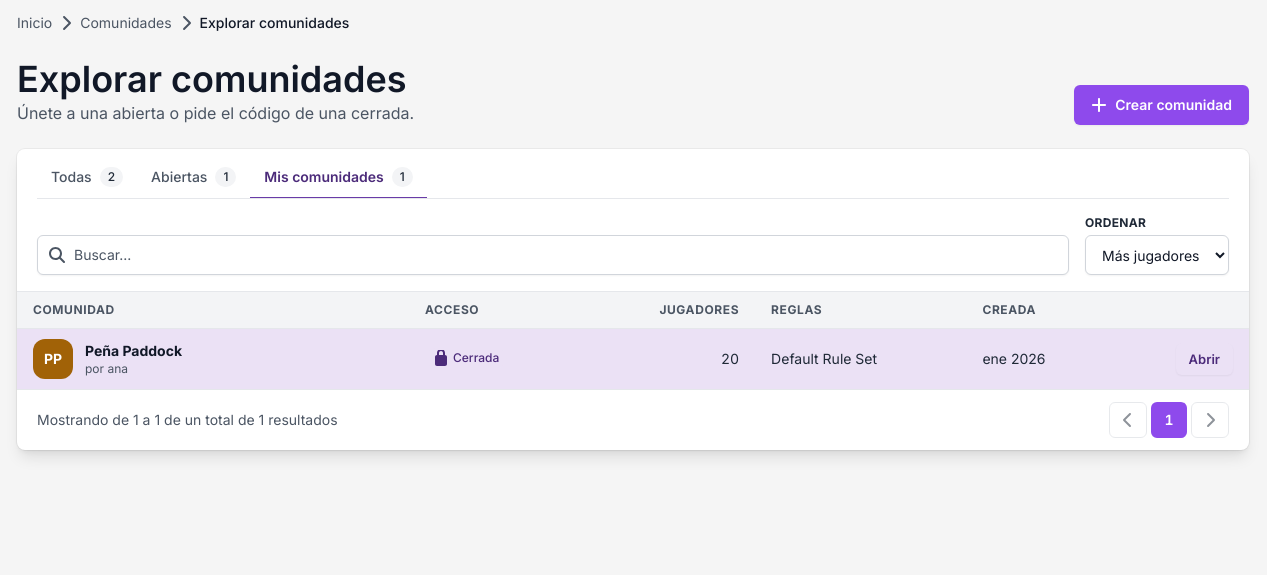
Scenario: Explorar comunidades › filters by tab from the URL and by search (name or creator)
Check: the tab "Mis comunidades 1" is shown, box [250,157,427,199]
Check: the text "Peña Paddock" is shown, box [85,341,182,361]
Type "zzz" into the search field named "Buscar comunidad" at (553, 255), box [37,235,1069,275]
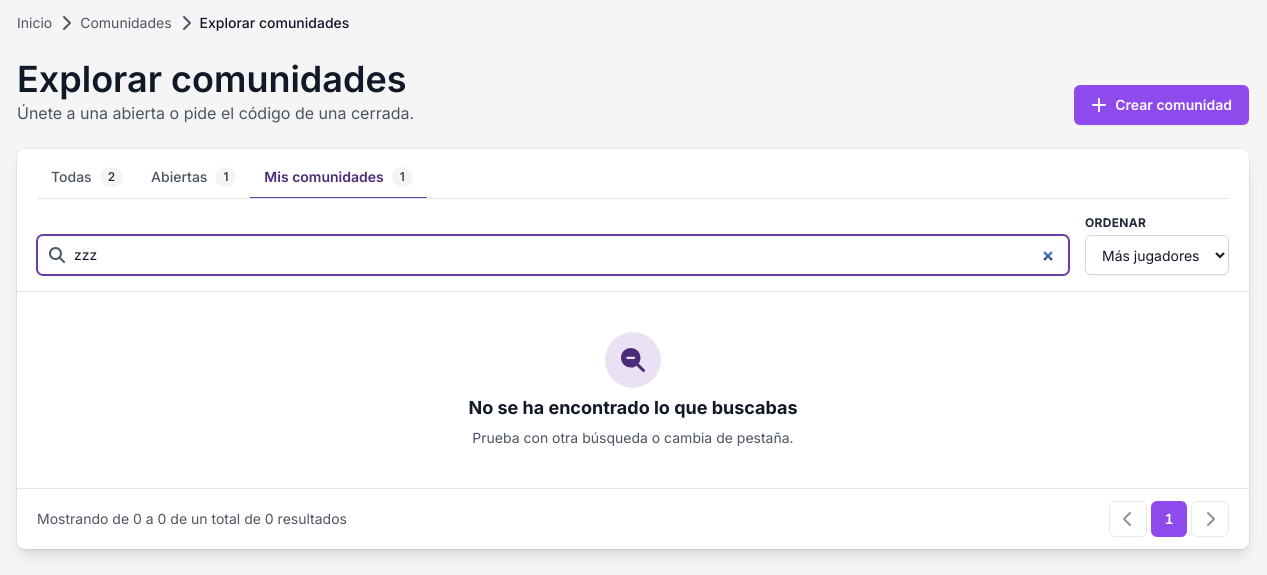
Check: the text "Peña Paddock" is gone
